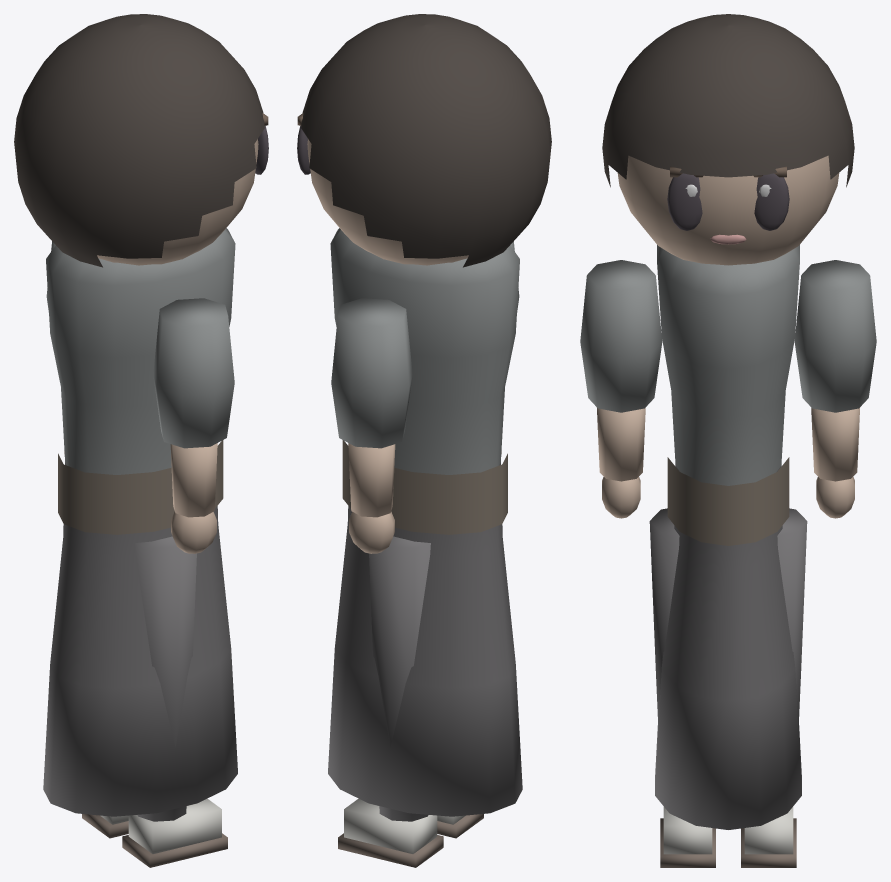
File: villager_b.glb
3 renders of one model, left to right at view 1: azimuth 30°, elevation 25°; view 2: azimuth 150°, elevation 25°; view 3: azimuth 270°, elevation 25°, orthographic.
Parts seen in each view (by area): view 1: Body, Head, ArmR, LegR, LegL; view 2: Body, Head, ArmL, LegL, LegR; view 3: Body, Head, ArmL, ArmR, LegL, LegR.
Boxes of the visible parts, box(x1,y1,x2,y2) form: Body: box(43, 228, 237, 816); Head: box(14, 14, 268, 267); ArmR: box(153, 298, 234, 553); LegR: box(122, 536, 227, 867); LegL: box(82, 814, 128, 838); Body: box(328, 228, 522, 816); Head: box(297, 14, 551, 267); ArmL: box(331, 298, 412, 553); LegL: box(338, 536, 443, 867); LegR: box(437, 814, 483, 838); Body: box(655, 245, 801, 829); Head: box(602, 14, 854, 265); ArmL: box(794, 260, 876, 518); ArmR: box(580, 260, 662, 518); LegL: box(741, 508, 807, 867); LegR: box(649, 508, 715, 867).
Bounding box in the file's own units: 0.3657 × 1.29 × 0.4252.
